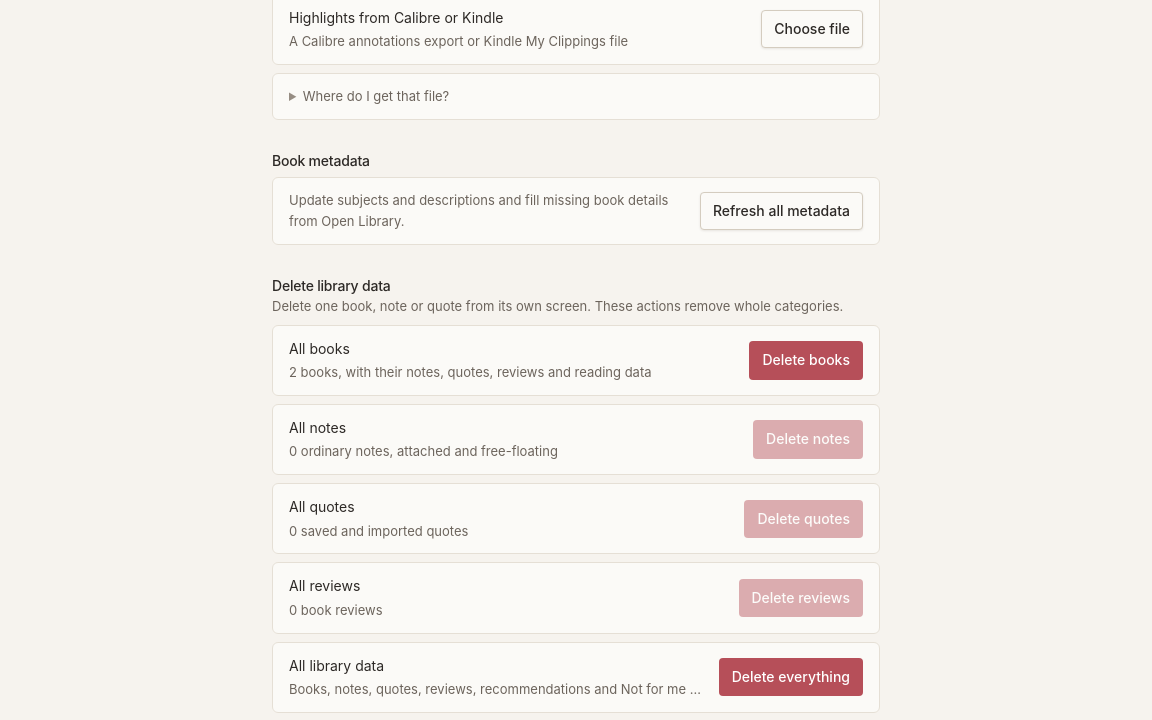
Scenario: the Data screen › says that free-floating notes survive a book delete
(page scrolled)
Click the button "Delete books": (806, 360) [749,341,863,380]
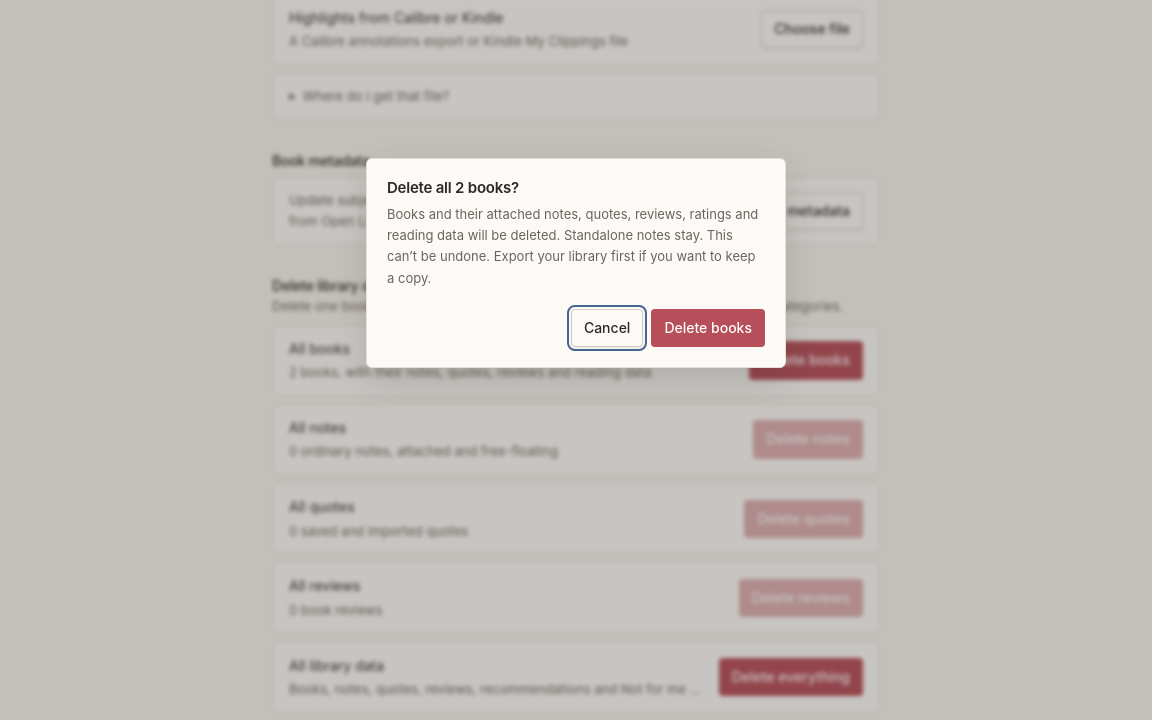
Now the heading "Delete all 2 books?" is shown, box [387,178,519,197]
Now the text "Standalone notes stay" is shown, box [387,206,758,286]
